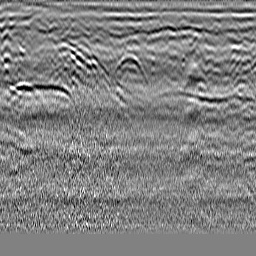cavity: (113, 53, 143, 76)
